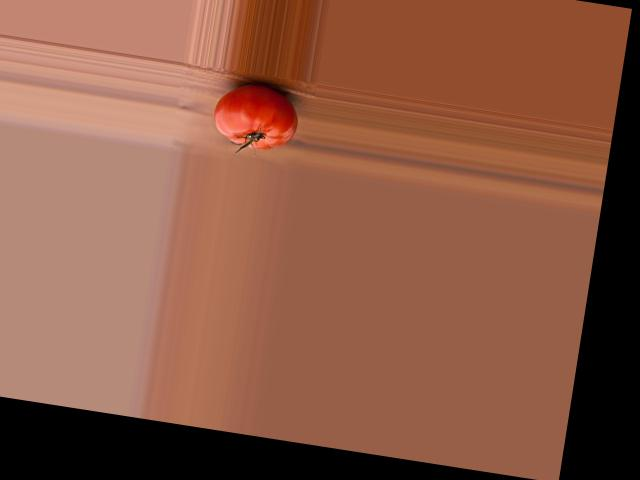tomato: (208, 78, 301, 154)
